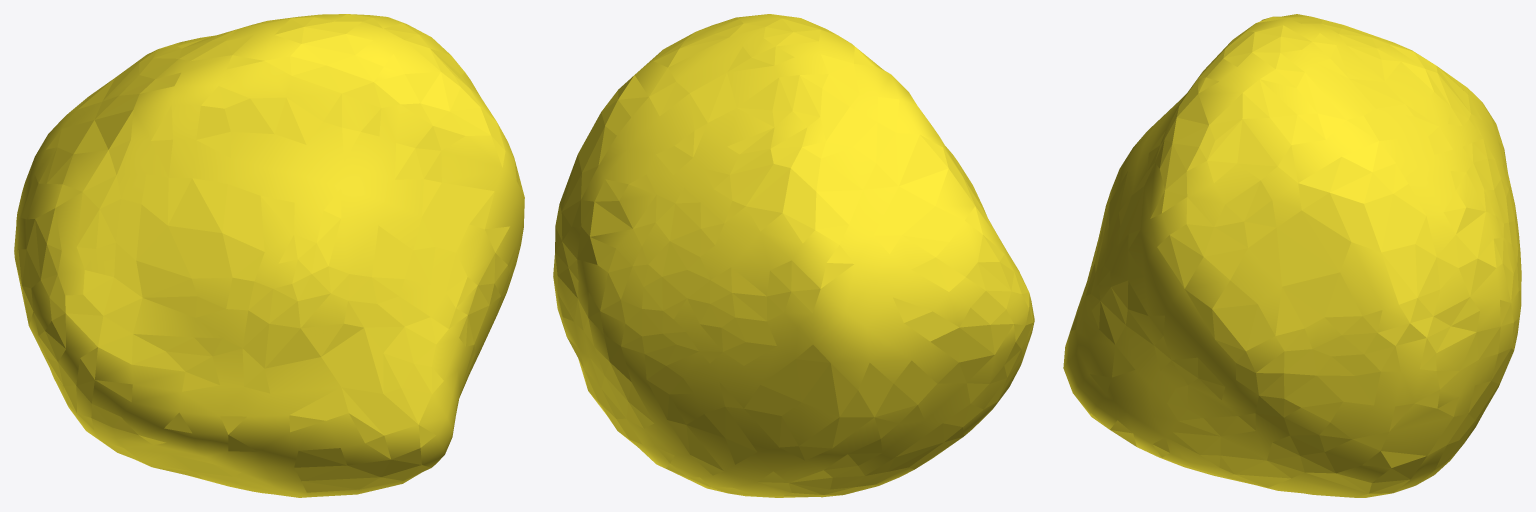
Rendered from yellow_rock_small.dae.
3 renders of one model, left to right at view 1: azimuth 30°, elevation 25°; view 2: azimuth 150°, elevation 25°; view 3: azimuth 270°, elevation 25°, orthographic. The views are drawn at different scales.
Visible parts, largest first — view 1: Rock_048_Cube_063; view 2: Rock_048_Cube_063; view 3: Rock_048_Cube_063.
Part boxes in pixels (x1=…): Rock_048_Cube_063: x1=14, y1=14, x2=524, y2=497; Rock_048_Cube_063: x1=553, y1=14, x2=1034, y2=497; Rock_048_Cube_063: x1=1063, y1=14, x2=1521, y2=497.
Bounding box in the file's own units: 0.3274 × 0.2951 × 0.3141.
